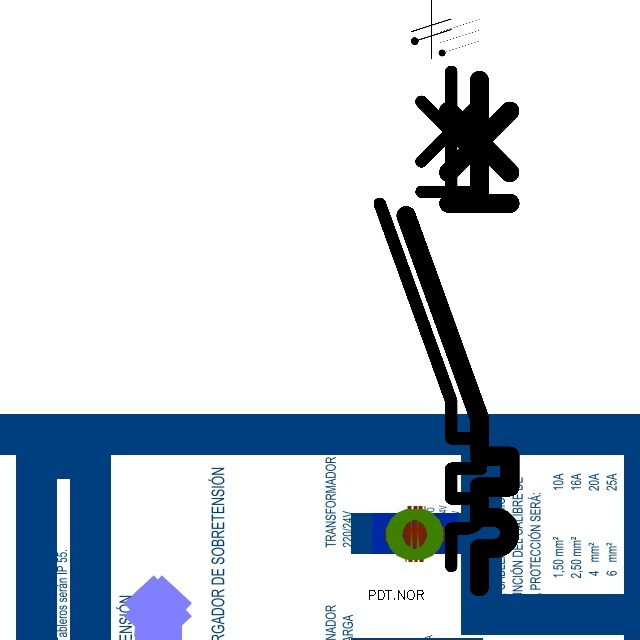interruptor_termomagnetico: (393, 67, 523, 600), (367, 58, 494, 578)
